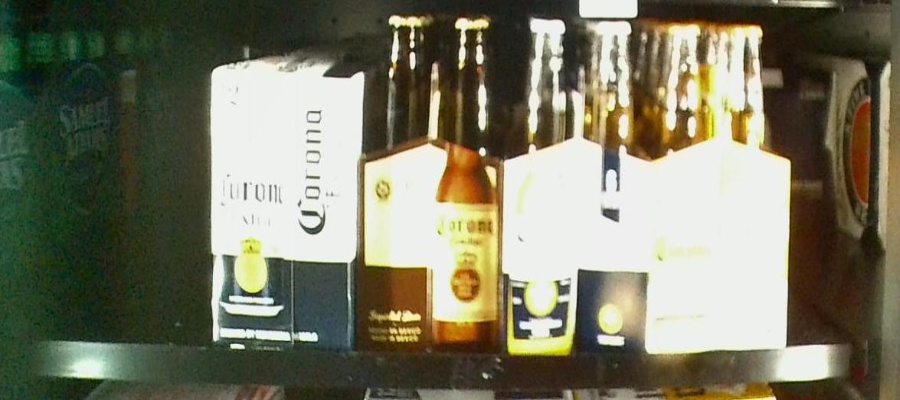bottle: (506, 16, 655, 356), (365, 11, 500, 353), (656, 20, 789, 365), (208, 63, 354, 353)
